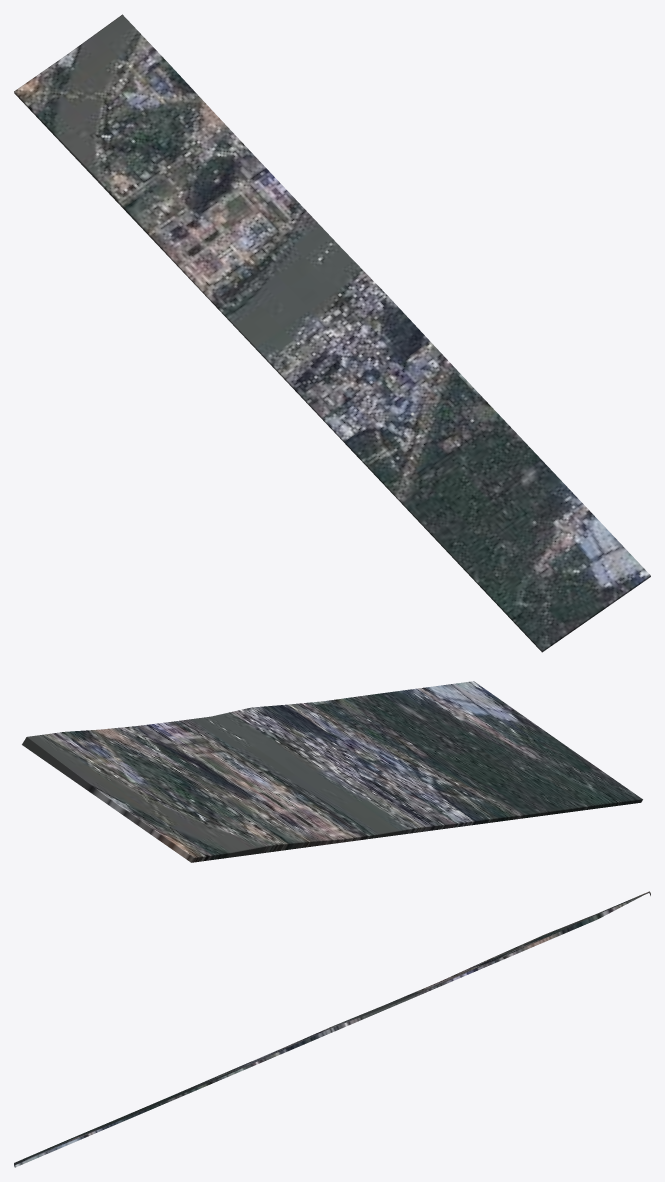
3 renders of one model, top to bottom at view 1: azimuth 30°, elevation 25°; view 2: azimuth 150°, elevation 25°; view 3: azimuth 270°, elevation 25°, orthographic. The views are drawn at different scales.
Visible parts, largest first — view 1: 4_1_2; view 2: 4_1_2; view 3: 4_1_2.
Part boxes in pixels (box(x1,y1,x2,y2)): 4_1_2: box(14, 14, 650, 652); 4_1_2: box(22, 681, 642, 862); 4_1_2: box(14, 891, 650, 1167).
Size of the model in its own units: 1090 by 1558 by 3362.
1 material, 1 textured.
